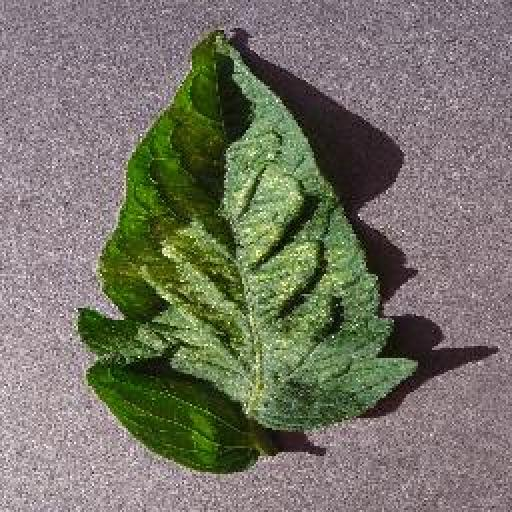disease_tomato: (77, 29, 416, 475)
